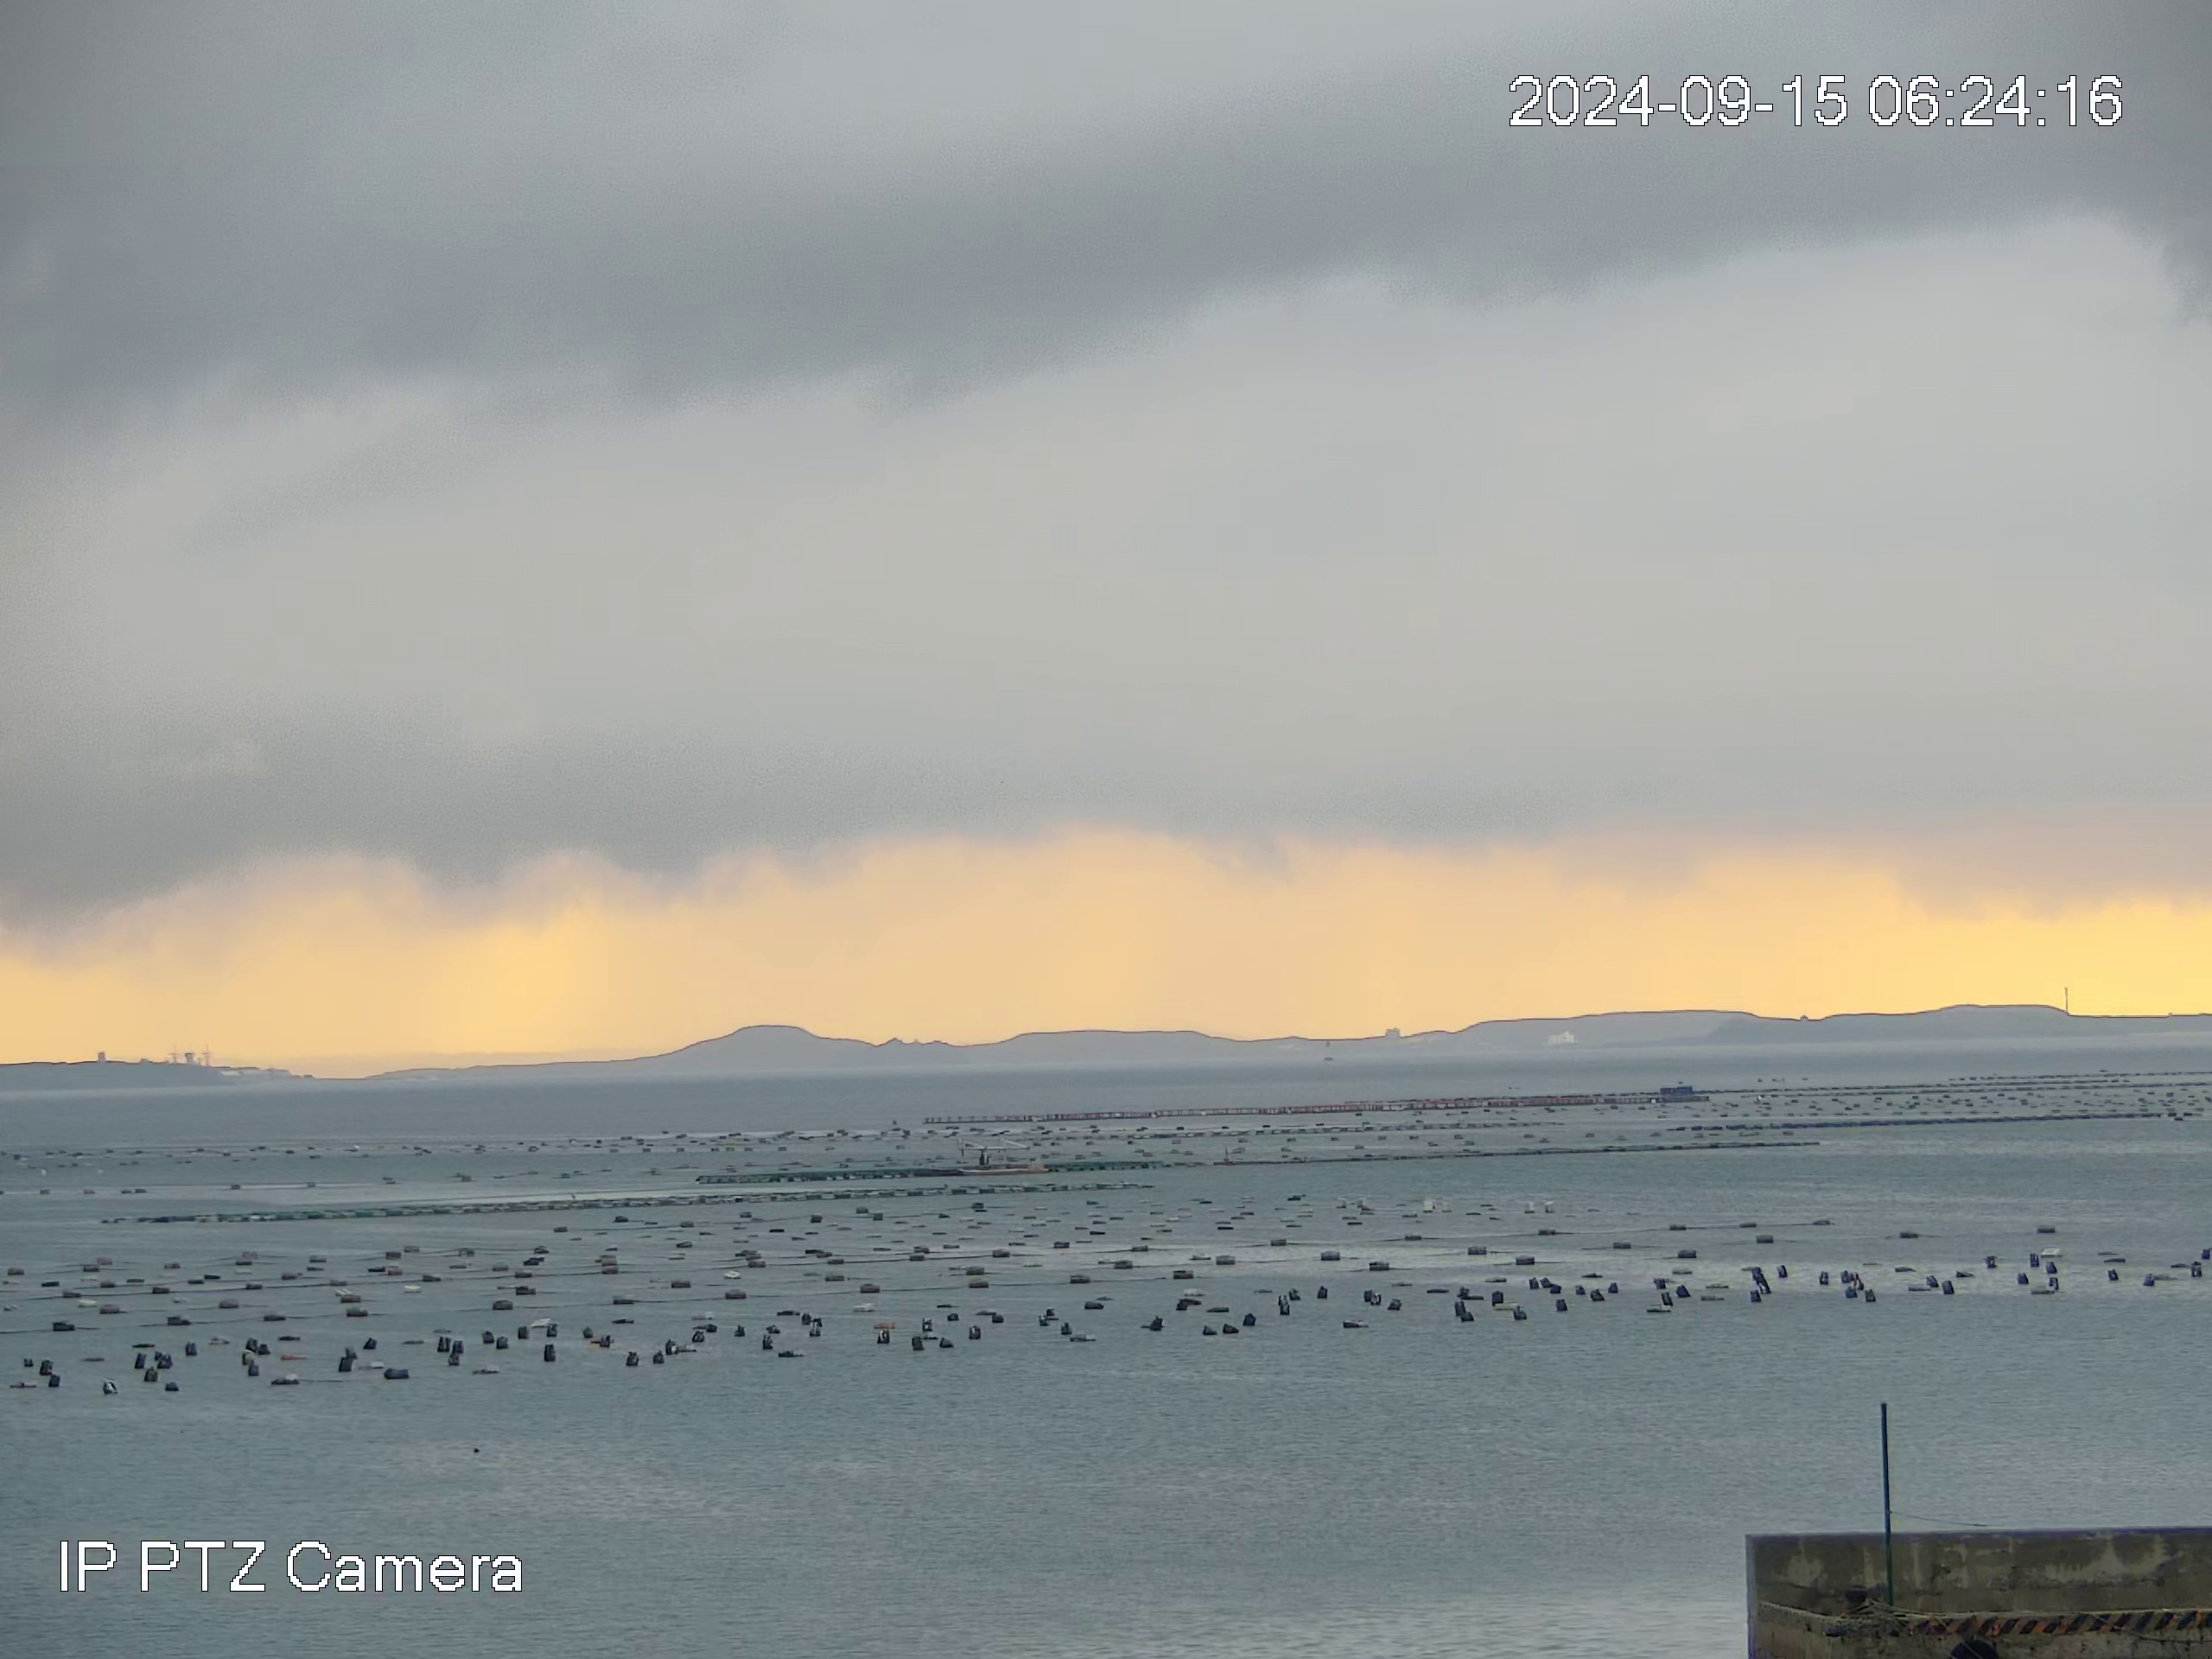boat: (954, 1134, 1050, 1176)
